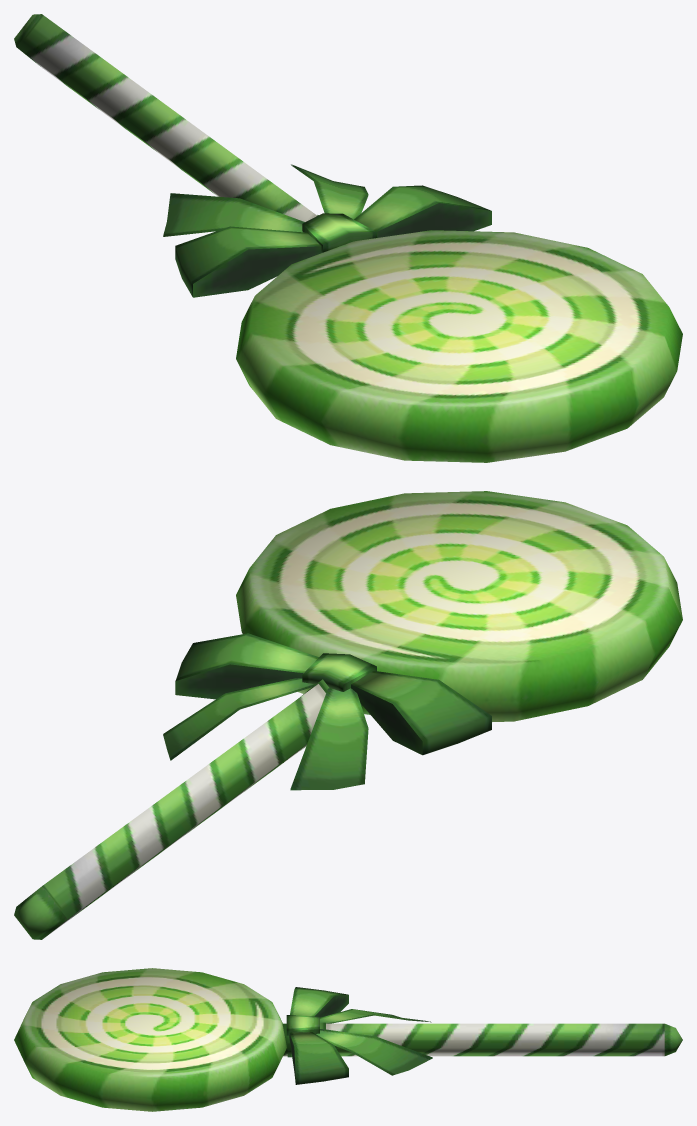
The model's file is mace0038.fbx.
3 views of the same model, one above another, from view 1: azimuth 30°, elevation 25°; view 2: azimuth 150°, elevation 25°; view 3: azimuth 270°, elevation 25° (orthographic). The views are drawn at different scales.
Visible parts, largest first — view 1: mace0038; view 2: mace0038; view 3: mace0038.
Boxes of the visible parts, <box> form: mace0038: <box>14,14,682,462</box>; mace0038: <box>14,491,682,939</box>; mace0038: <box>14,968,682,1111</box>.
Bounding box in the file's own units: 0.33 × 0.0516 × 0.7981.
